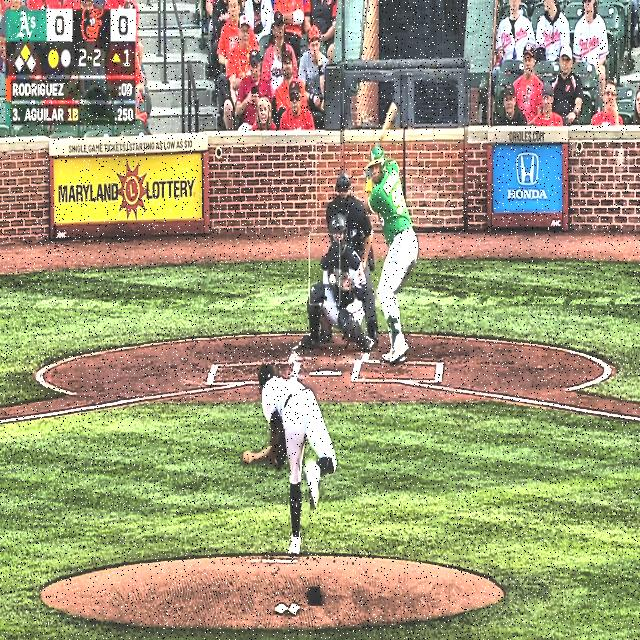baseball: (329, 274, 336, 285)
